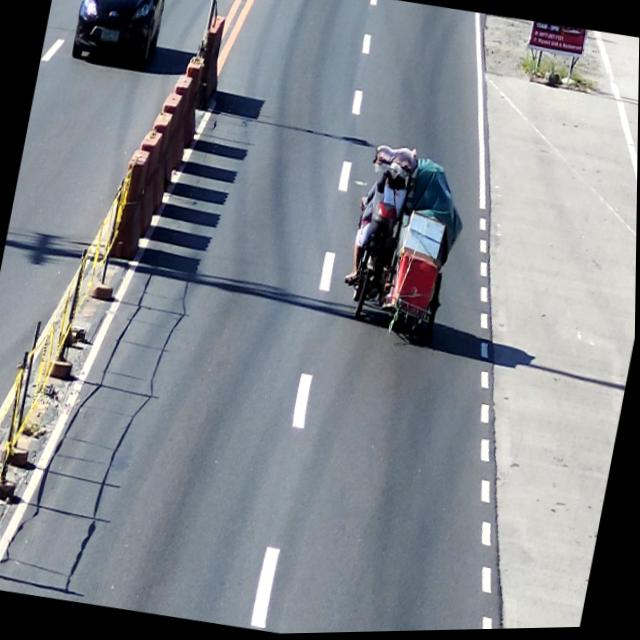Car: (66, 0, 179, 71)
License-Plate: (96, 24, 123, 49)
Tricycle: (339, 141, 473, 344)
